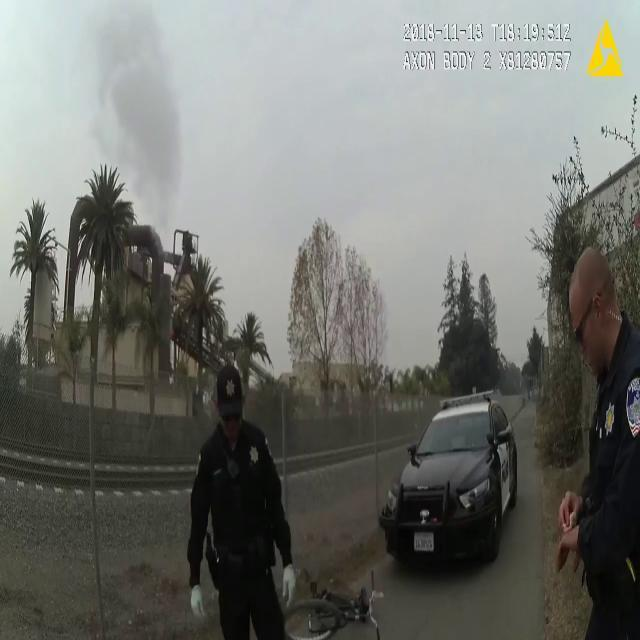gun: (201, 521, 223, 597)
